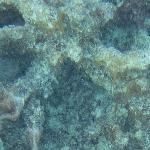dead: (1, 1, 146, 149)
